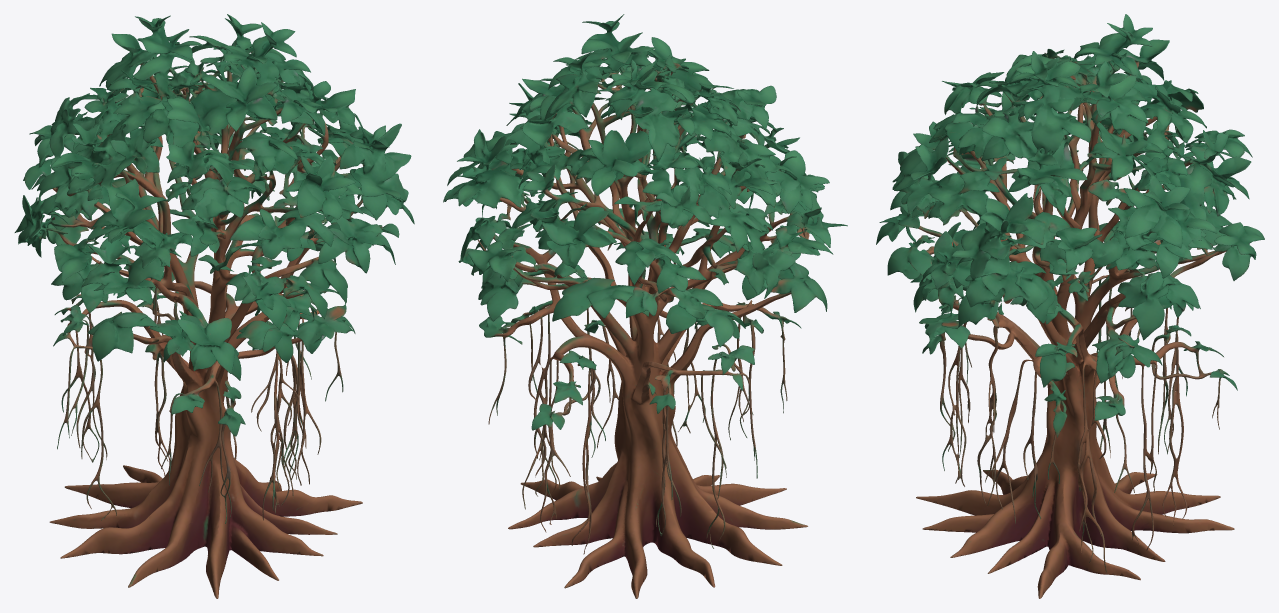
Rendered from costeiro_mangue.glb.
The picture shows the model from 3 angles, left to right: view 1: azimuth 30°, elevation 25°; view 2: azimuth 150°, elevation 25°; view 3: azimuth 270°, elevation 25°; orthographic projection.
Size of the model in its own units: 1.38 by 1.89 by 1.34.
Materials: 1 (1 with a texture image).
